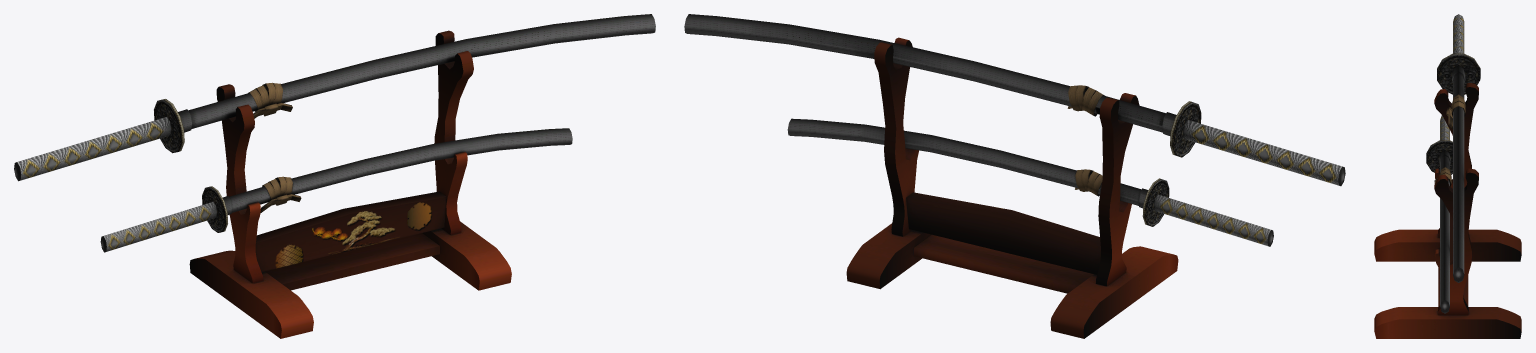
Rendered from Katana1.a.fbx.
3 renders of one model, left to right at view 1: azimuth 30°, elevation 25°; view 2: azimuth 150°, elevation 25°; view 3: azimuth 270°, elevation 25°, orthographic. The views are drawn at different scales.
Visible parts, largest first — view 1: Group 0; view 2: Group 0; view 3: Group 0.
Boxes of the visible parts, box(x1,y1,x2,y2) form: Group 0: box(14, 14, 655, 338); Group 0: box(684, 14, 1345, 338); Group 0: box(1374, 14, 1521, 338).
Bounding box in the file's own units: 176 × 56.75 × 44.16.
Materials: 1 (1 with a texture image).
